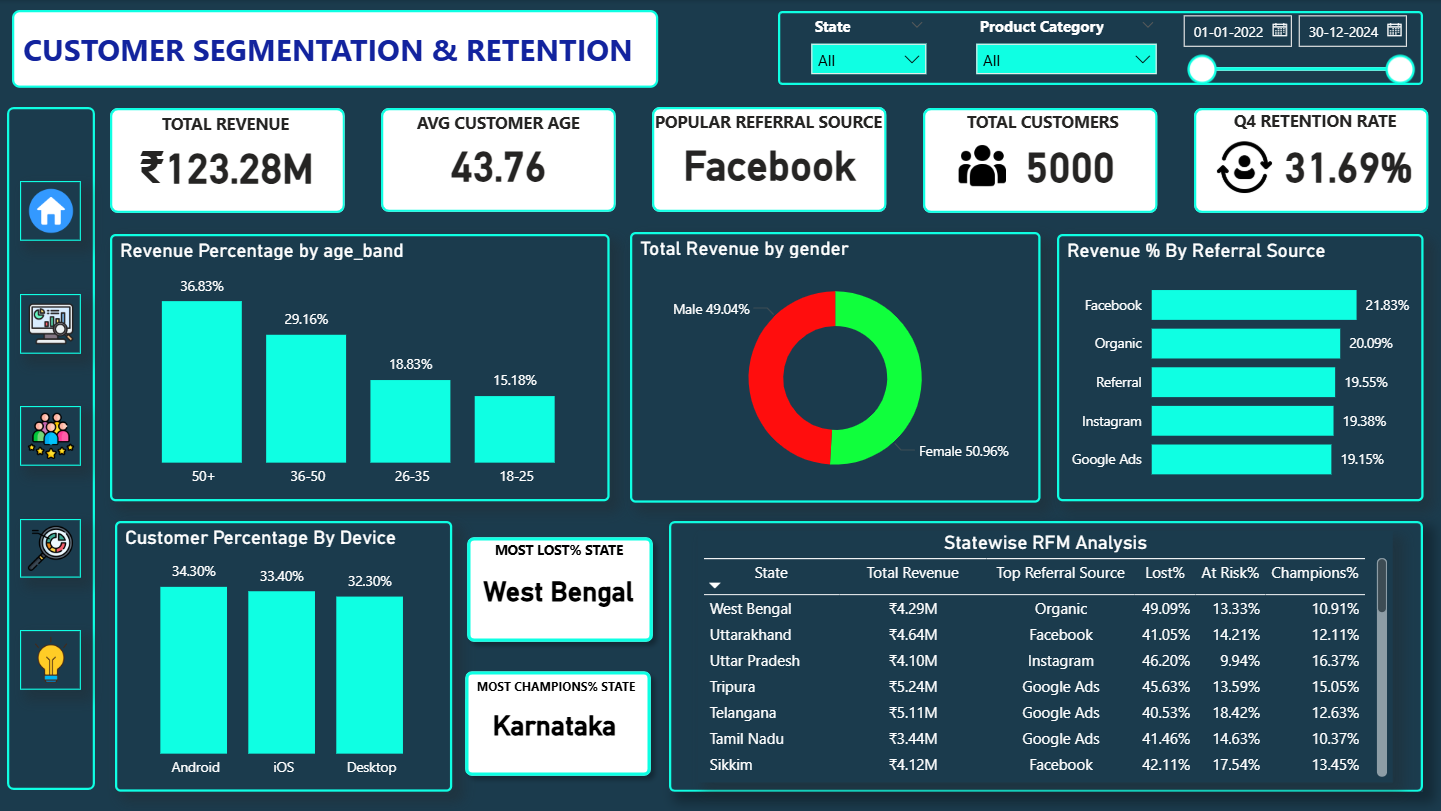

Layout of this report page (visuals, bound fields, positions):
{"tool":"powerbi","page":{"name":"Customer Segmentation & Retention","canvas":[1280,720],"ordinal":2},"visuals":[{"type":"shape","box":[595,462,668.6,240.3],"z":0},{"type":"textbox","box":[12.4,8.9,572.8,69.2],"z":1000},{"type":"shape","box":[820.4,95.8,208,93.1],"z":2000},{"type":"shape","box":[339.8,95.8,208.4,92.2],"z":3000},{"type":"shape","box":[99.3,95.8,208.4,93.1],"z":4000},{"type":"shape","box":[580.3,94.9,208,93.1],"z":5000},{"type":"shape","box":[1060.5,95.8,208,93.1],"z":6000},{"type":"columnChart","fields":{"Category":["dim customers.age_band"],"Y":["All Measures.Revenue Percentage"]},"box":[99.3,207.5,443.3,236.7],"z":7000},{"type":"pivotTable","title":"Statewise RFM Analysis","fields":{"Values":["All Measures.Total Revenue","All Measures.Top Referral Source","All Measures.Lost%","All Measures.At Risk%","All Measures.Champions%"],"Rows":["dim customers.state"]},"box":[620.7,470.8,616.3,222.6],"z":8000},{"type":"card","title":"TOTAL REVENUE","fields":{"Values":["All Measures.Total Revenue"]},"box":[103.7,101.1,197.7,89.6],"z":9000},{"type":"card","title":"TOTAL REVENUE","fields":{"Values":["Avg(dim customers.age)"]},"box":[344.9,99.3,197.7,89.6],"z":10000},{"type":"card","title":"TOTAL REVENUE","fields":{"Values":["Min(dim customers.referral_source)"]},"box":[585.2,98.4,197.7,89.6],"z":11000},{"type":"card","title":"TOTAL REVENUE","fields":{"Values":["All Measures.Total Customers"]},"box":[851.2,100.2,197.7,89.6],"z":12000},{"type":"card","title":"TOTAL REVENUE","fields":{"Values":["All Measures.Retention Rate (Q4)"]},"box":[1129.7,100.2,135.7,89.6],"z":13000},{"type":"shape","box":[8,94.9,78,605.6],"z":14000},{"type":"textbox","box":[140.1,94,126.8,35.5],"z":15000},{"type":"textbox","box":[366.2,93.1,157.8,35.5],"z":16000},{"type":"textbox","box":[577.2,92.2,228.8,34.6],"z":17000},{"type":"textbox","box":[853.9,92.2,150.7,35.5],"z":18000},{"type":"textbox","box":[1090.6,91.3,158.7,35.5],"z":19000},{"type":"image","box":[846.8,118.8,52.3,56.7],"z":20000},{"type":"image","box":[1070.2,115.3,69.2,65.6],"z":21000},{"type":"shape","box":[691.6,9.8,571.9,65.6],"z":22000},{"type":"slicer","fields":{"Values":["dim customers.state"]},"box":[711.6,10.1,122,65.5],"z":23000},{"type":"slicer","fields":{"Values":["Fact Transactions.product_category"]},"box":[857.7,10.1,180.4,65.5],"z":24000},{"type":"slicer","fields":{"Values":["dim customers.signup_date"]},"box":[1038.3,3.5,225.2,74.5],"z":25000},{"type":"donutChart","fields":{"Category":["dim customers.gender"],"Y":["All Measures.Total Revenue"]},"box":[560.4,205.6,363.8,239.9],"z":26000},{"type":"clusteredColumnChart","title":"Customer Percentage By Device","fields":{"Category":["dim customers.device"],"Y":["All Measures.Customer Percentage"]},"box":[103.7,462,298.8,240.3],"z":27000},{"type":"barChart","title":"Revenue % By Referral Source","fields":{"Category":["dim customers.referral_source"],"Y":["All Measures.Revenue Percentage"]},"box":[939,207.5,324.5,236.7],"z":28000},{"type":"shape","box":[407,467.3,182.7,110.8],"z":29000},{"type":"textbox","box":[435.4,473.5,134.8,35.5],"z":30000},{"type":"card","fields":{"Values":["Min(dim customers.state)"]},"box":[424.7,490.3,144.5,66.5],"z":31000},{"type":"shape","box":[405.2,586.1,182.7,110.8],"z":32000},{"type":"textbox","box":[419.4,594.1,186.2,35.5],"z":33000},{"type":"card","fields":{"Values":["Min(dim customers.state)"]},"box":[421.2,609.2,144.5,66.5],"z":34000},{"type":"image","box":[19.5,160.5,54.1,53.2],"z":35000},{"type":"image","box":[19.5,260.2,54.1,53.2],"z":36000},{"type":"image","box":[19.5,360,54.1,53.2],"z":37000},{"type":"image","box":[19.5,459.8,54.1,52.3],"z":38000},{"type":"image","box":[19.5,558.6,54.1,53.2],"z":39000}]}

Visuals, with their boxes in screenshot pixels (x1, y1, x2, y2), scaled from the page's 1280x720 canvas onto the 1441x811 screenshot:
shape: BBox(670, 520, 1423, 791)
textbox: BBox(14, 10, 659, 88)
shape: BBox(924, 108, 1158, 213)
shape: BBox(383, 108, 617, 212)
shape: BBox(112, 108, 346, 213)
shape: BBox(653, 107, 887, 212)
shape: BBox(1194, 108, 1428, 213)
columnChart - dim customers.age_band x All Measures.Revenue Percentage: BBox(112, 234, 611, 500)
"Statewise RFM Analysis" pivotTable: BBox(699, 530, 1393, 781)
"TOTAL REVENUE" card: BBox(117, 114, 339, 215)
"TOTAL REVENUE" card: BBox(388, 112, 611, 213)
"TOTAL REVENUE" card: BBox(659, 111, 881, 212)
"TOTAL REVENUE" card: BBox(958, 113, 1181, 214)
"TOTAL REVENUE" card: BBox(1272, 113, 1425, 214)
shape: BBox(9, 107, 97, 789)
textbox: BBox(158, 106, 300, 146)
textbox: BBox(412, 105, 590, 145)
textbox: BBox(650, 104, 907, 143)
textbox: BBox(961, 104, 1131, 144)
textbox: BBox(1228, 103, 1406, 143)
image: BBox(953, 134, 1012, 198)
image: BBox(1205, 130, 1283, 204)
shape: BBox(779, 11, 1422, 85)
slicer - dim customers.state: BBox(801, 11, 938, 85)
slicer - Fact Transactions.product_category: BBox(966, 11, 1169, 85)
slicer - dim customers.signup_date: BBox(1169, 4, 1422, 88)
donutChart - dim customers.gender x All Measures.Total Revenue: BBox(631, 232, 1040, 502)
"Customer Percentage By Device" clusteredColumnChart: BBox(117, 520, 453, 791)
"Revenue % By Referral Source" barChart: BBox(1057, 234, 1422, 500)
shape: BBox(458, 526, 664, 651)
textbox: BBox(490, 533, 642, 573)
card - Min(dim customers.state): BBox(478, 552, 641, 627)
shape: BBox(456, 660, 662, 785)
textbox: BBox(472, 669, 682, 709)
card - Min(dim customers.state): BBox(474, 686, 637, 761)
image: BBox(22, 181, 83, 241)
image: BBox(22, 293, 83, 353)
image: BBox(22, 406, 83, 465)
image: BBox(22, 518, 83, 577)
image: BBox(22, 629, 83, 689)
